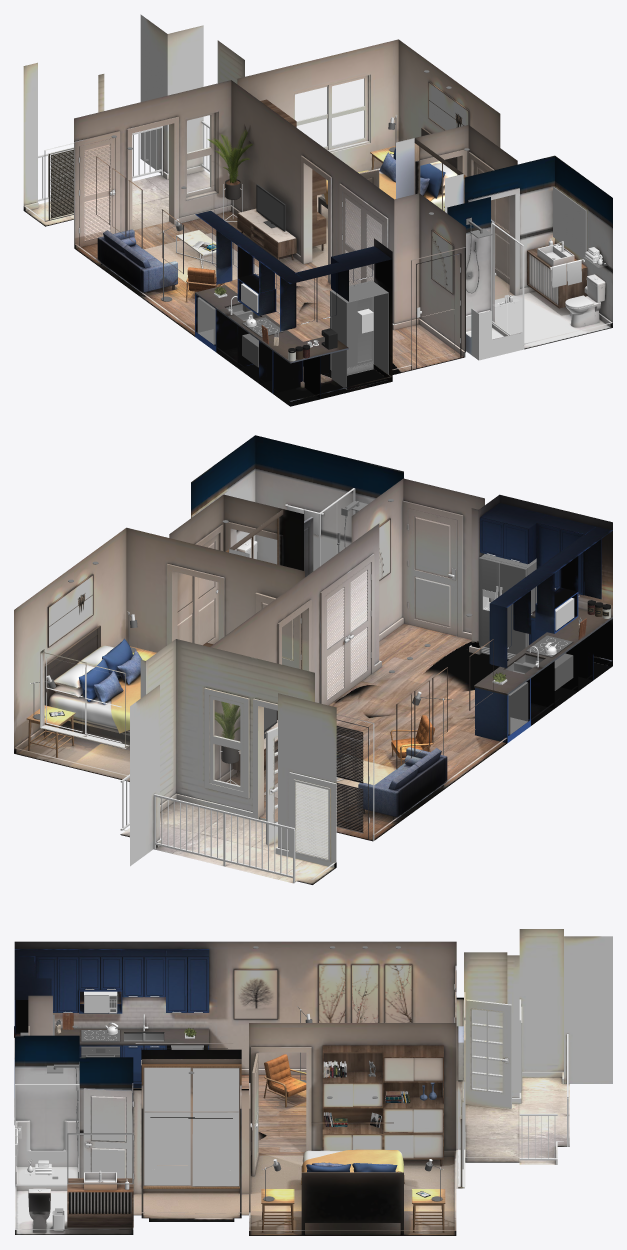
The model's file is apartamento2.glb.
3 renders of one model, top to bottom at view 1: azimuth 30°, elevation 25°; view 2: azimuth 150°, elevation 25°; view 3: azimuth 270°, elevation 25°, orthographic. The views are drawn at different scales.
Parts seen in each view (by area): view 1: 1_Structure, 2_Door_Windows, 3_Kitchen_Material #129_0, 3_Living Room, 3_Bathroom, 4_Kitchen_Freezer, 3_Bedroom, 4_Bathroom_Box, 3_Picture, 3_Closet, 4_Glass_4_Glass_0.001, 4_BathRoom_Mirror_ (+7 smaller); view 2: 1_Structure, 2_Door_Windows, 3_Kitchen_Material #129_0, 3_Bedroom, 3_Living Room, 3_Picture, 2_Railing, 4_Kitchen_Freezer, 4_Glass, 4_Bathroom_Box, 4_Kitchen_WashMachine, 3_Closet (+1 smaller); view 3: 1_Structure, 3_Bedroom, 2_Door_Windows, 3_Kitchen_Material #129_0, 4_Closet_Mirror, 3_Picture, 3_Bathroom, 4_Bathroom_Box, 3_Closet, 4_Glass_4_Glass_0.003, 3_Living Room, 4_Kitchen_Microwave (+4 smaller).
Part boxes in pixels (x1,y1,x2,y2): 1_Structure: [23, 14, 612, 406]; 2_Door_Windows: [24, 75, 612, 401]; 3_Kitchen_Material #129_0: [195, 211, 391, 398]; 3_Living Room: [97, 179, 296, 302]; 3_Bathroom: [466, 243, 605, 360]; 4_Kitchen_Freezer: [330, 280, 388, 389]; 3_Bedroom: [260, 99, 457, 250]; 4_Bathroom_Box: [491, 222, 524, 344]; 3_Picture: [96, 81, 469, 294]; 3_Closet: [396, 138, 466, 213]; 4_Glass_4_Glass_0.001: [332, 79, 363, 144]; 4_BathRoom_Mirror_: [553, 187, 586, 260]; 1_Structure: [14, 435, 612, 884]; 2_Door_Windows: [14, 501, 612, 879]; 3_Kitchen_Material #129_0: [474, 503, 612, 743]; 3_Bedroom: [26, 625, 213, 757]; 3_Living Room: [221, 715, 447, 821]; 3_Picture: [47, 518, 493, 769]; 2_Railing: [120, 774, 295, 883]; 4_Kitchen_Freezer: [479, 554, 536, 659]; 4_Glass: [214, 700, 239, 785]; 4_Bathroom_Box: [318, 488, 355, 566]; 4_Kitchen_WashMachine: [508, 682, 528, 734]; 3_Closet: [226, 509, 283, 564]; 1_Structure: [14, 929, 612, 1235]; 3_Bedroom: [261, 1045, 445, 1234]; 2_Door_Windows: [14, 965, 563, 1230]; 3_Kitchen_Material #129_0: [14, 949, 209, 1097]; 4_Closet_Mirror: [144, 1067, 238, 1185]; 3_Picture: [233, 964, 412, 1123]; 3_Bathroom: [15, 1120, 133, 1232]; 4_Bathroom_Box: [15, 1084, 79, 1185]; 3_Closet: [141, 1059, 241, 1191]; 4_Glass_4_Glass_0.003: [473, 1010, 501, 1091]; 3_Living Room: [263, 1054, 306, 1107]; 4_Kitchen_Microwave: [84, 991, 117, 1013].
Size of the model in its own units: 7.7 by 3.28 by 12.05.
Materials: 38 (21 with a texture image).
